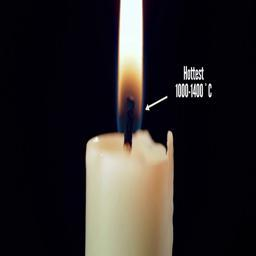fire: (118, 0, 143, 134)
